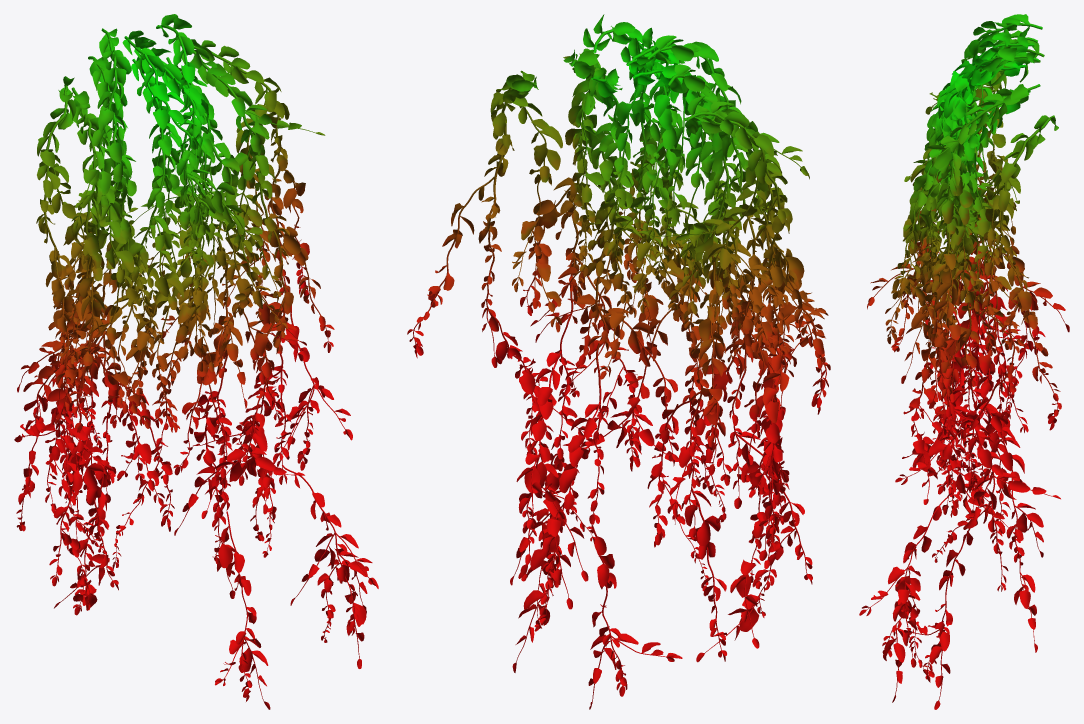
Rendered from Var2_LOD0.fbx.
3 renders of one model, left to right at view 1: azimuth 30°, elevation 25°; view 2: azimuth 150°, elevation 25°; view 3: azimuth 270°, elevation 25°, orthographic. The views are drawn at different scales.
Parts seen in each view (by area): view 1: _tyu8_Var2_LOD0; view 2: _tyu8_Var2_LOD0; view 3: _tyu8_Var2_LOD0.
Boxes of the visible parts, <box> form: _tyu8_Var2_LOD0: <box>14,14,378,709</box>; _tyu8_Var2_LOD0: <box>407,14,830,709</box>; _tyu8_Var2_LOD0: <box>859,14,1069,709</box>.
Size of the model in its own units: 118 by 238 by 70.83.
